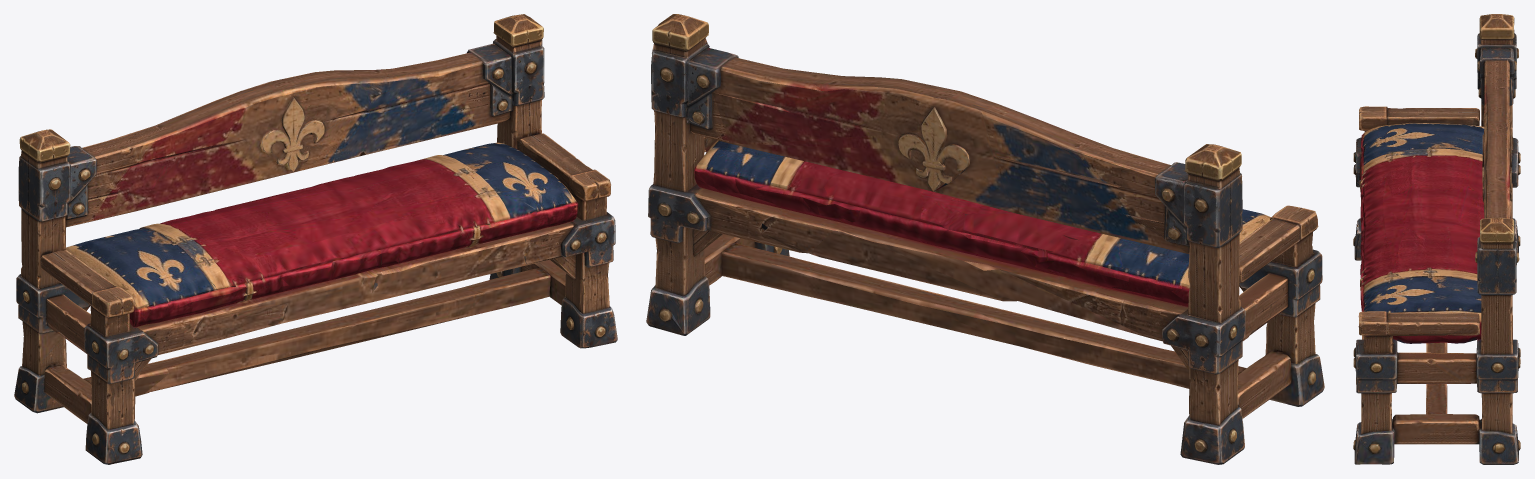
Rendered from bench.glb.
The picture shows the model from 3 angles, left to right: view 1: azimuth 30°, elevation 25°; view 2: azimuth 150°, elevation 25°; view 3: azimuth 270°, elevation 25°; orthographic projection. The views are drawn at different scales.
Parts seen in each view (by area): view 1: output_unwrapped; view 2: output_unwrapped; view 3: output_unwrapped.
Boxes of the visible parts, <box> form: output_unwrapped: <box>14,14,617,464</box>; output_unwrapped: <box>646,14,1324,464</box>; output_unwrapped: <box>1353,14,1520,464</box>.
Bounding box in the file's own units: 1.9 × 0.9546 × 0.6097.
Materials: 1 (1 with a texture image).
